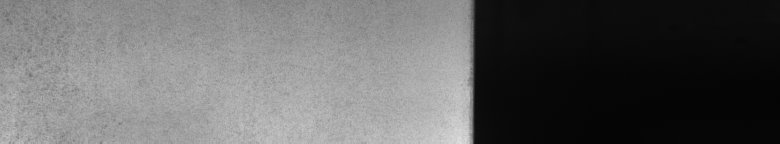ib: (26, 16, 84, 96)
